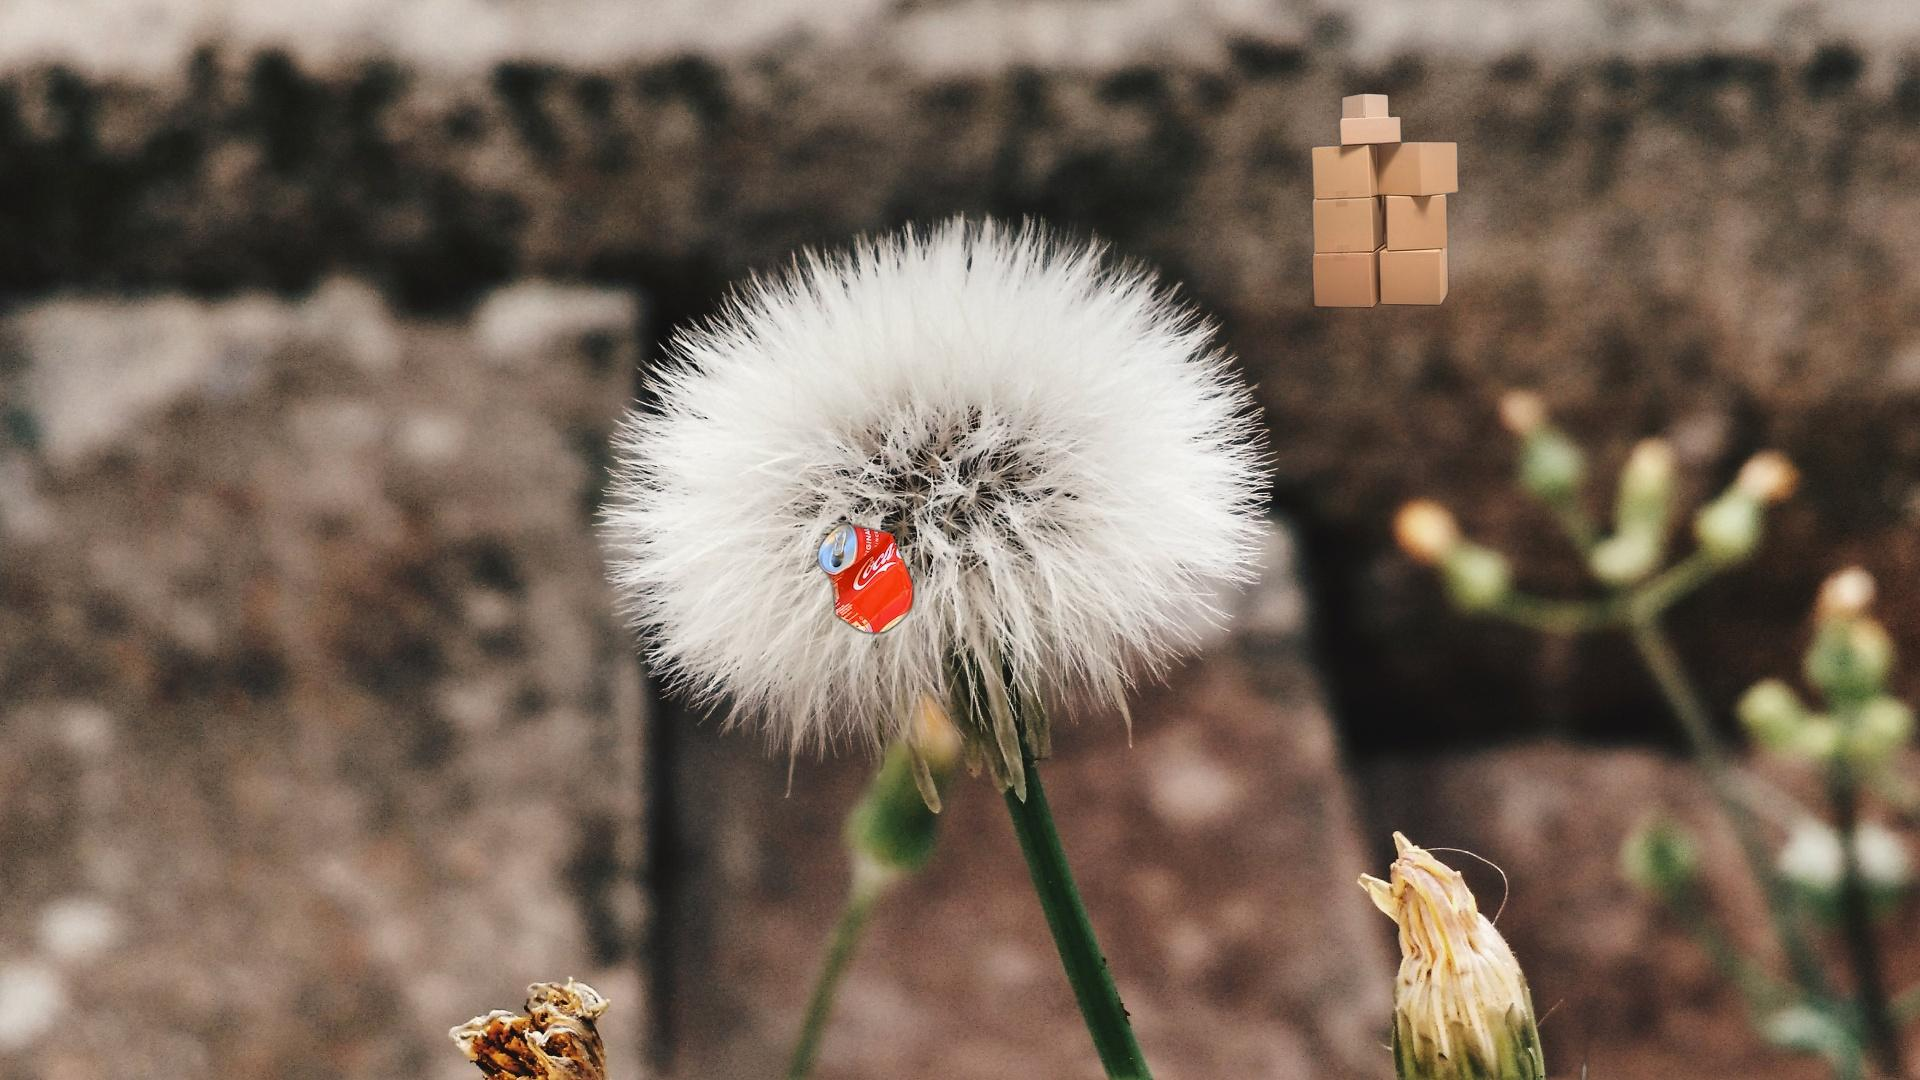metal-cans: (814, 517, 919, 640)
trashbox-cardboard: (1308, 91, 1462, 311), (1323, 1018, 1834, 1080)
